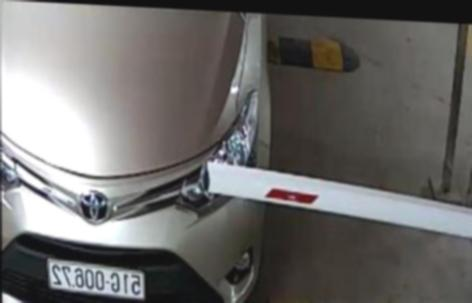License_Plate: (42, 255, 150, 303)
